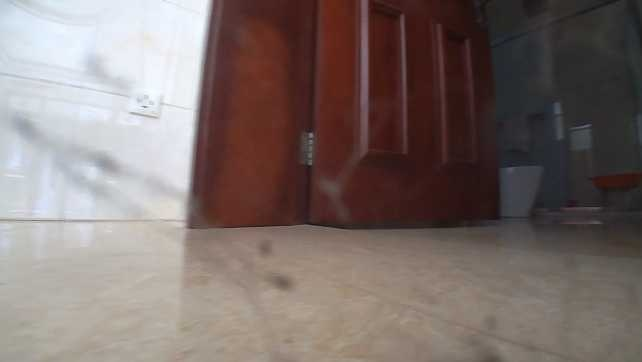door_anno: (186, 0, 501, 229)
toilet: (497, 161, 545, 221)
